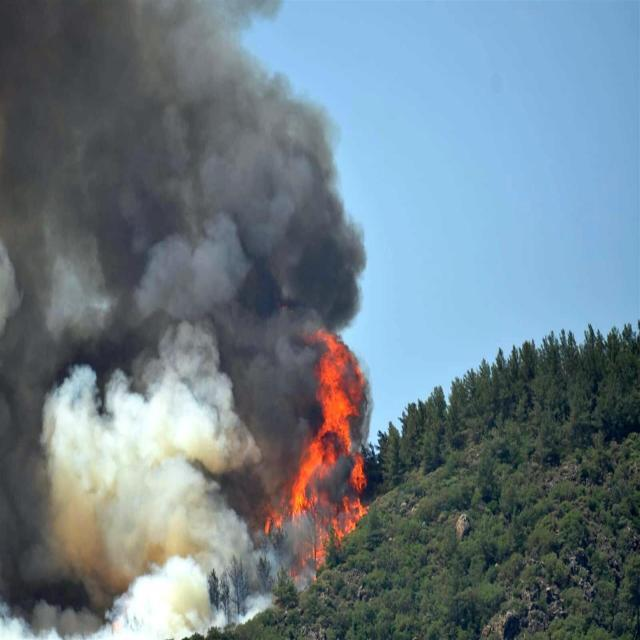Fire: (262, 314, 384, 590)
Smoke: (0, 14, 334, 640)
